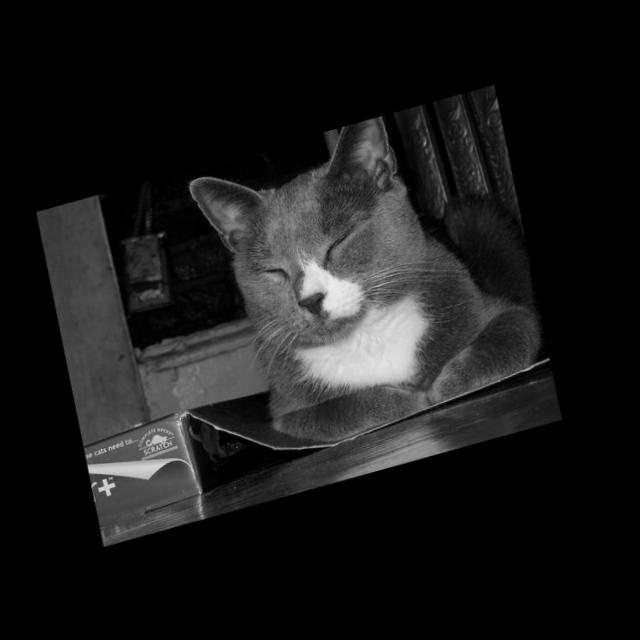animals: (184, 117, 425, 338)
